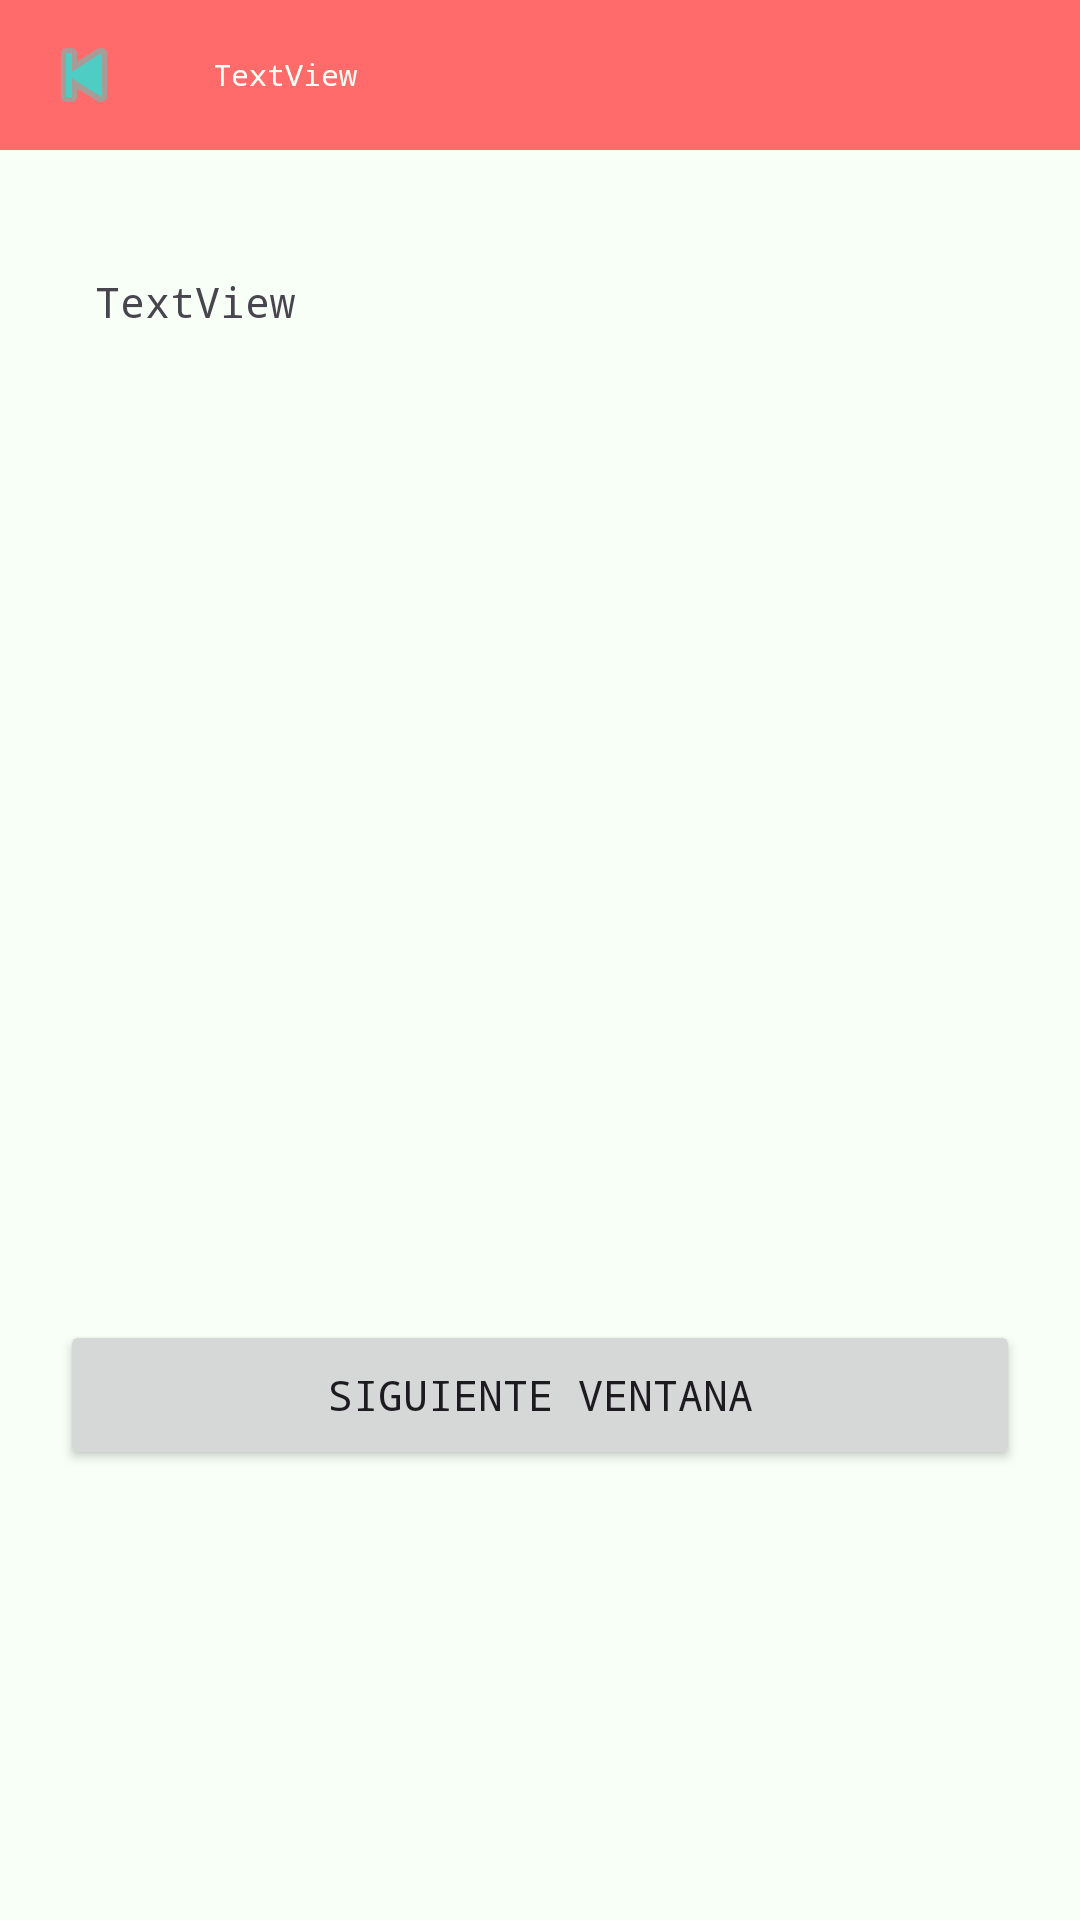

Screen size 1080×1920. Icon name, then its box in pixels as (x1, y1, x2, y2):
previous: (61, 48, 107, 102)
